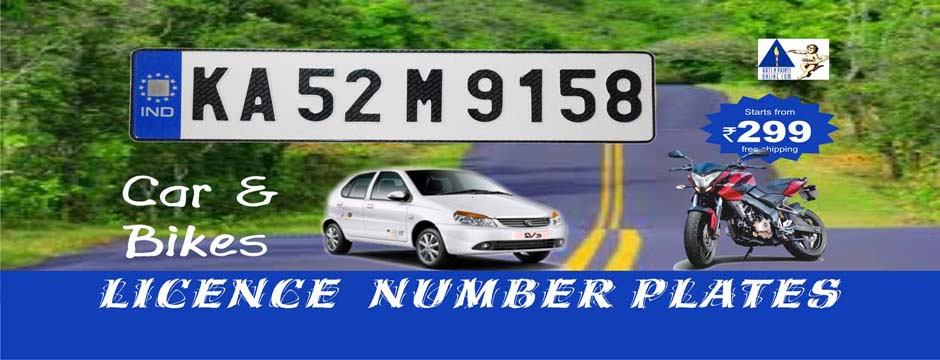number_plate: (129, 47, 658, 145)
